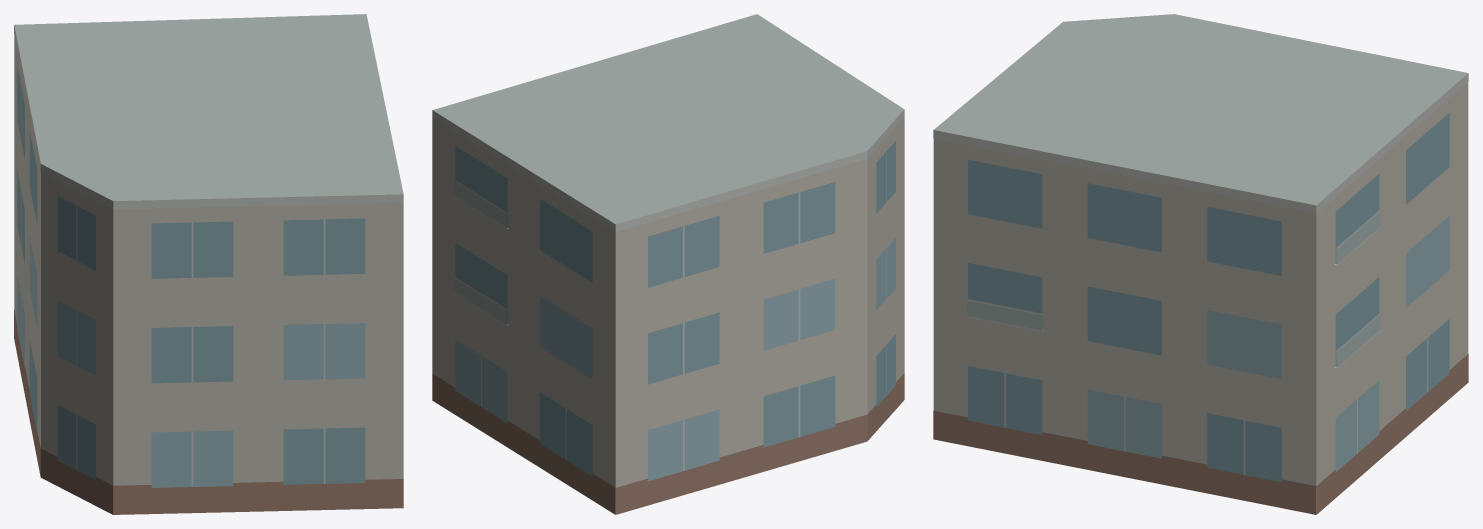
Rendered from survey-upis-32581412.glb.
3 views of the same model, side by side, from view 1: azimuth 30°, elevation 25°; view 2: azimuth 150°, elevation 25°; view 3: azimuth 270°, elevation 25° (orthographic). The views are drawn at different scales.
Parts seen in each view (by area): view 1: survey-upis-32581412.tmp; view 2: survey-upis-32581412.tmp; view 3: survey-upis-32581412.tmp.
Part boxes in pixels (box(x1,y1,x2,y2)): survey-upis-32581412.tmp: box(14, 14, 403, 514); survey-upis-32581412.tmp: box(432, 14, 904, 514); survey-upis-32581412.tmp: box(933, 14, 1468, 514).
Bounding box in the file's own units: 12.15 × 9.15 × 14.34.
